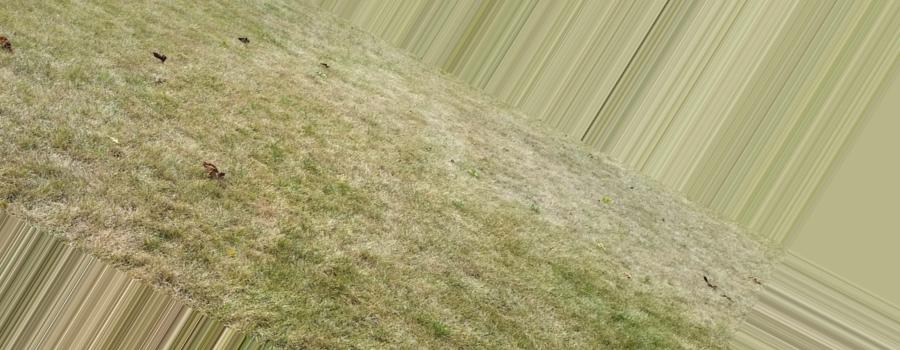patch: (42, 7, 702, 341)
